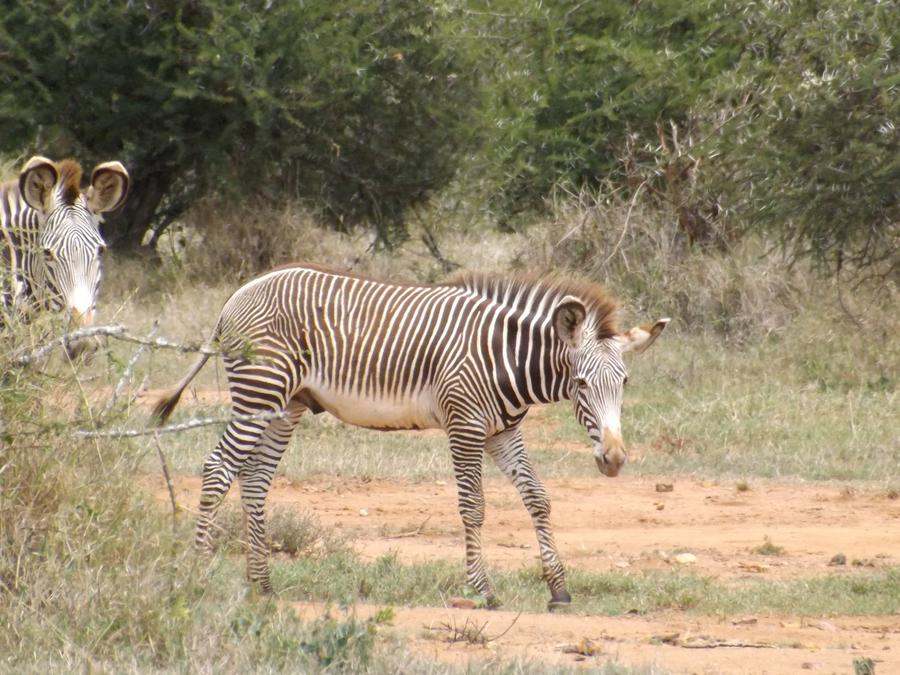zebra_grevys: (229, 252, 502, 438)
